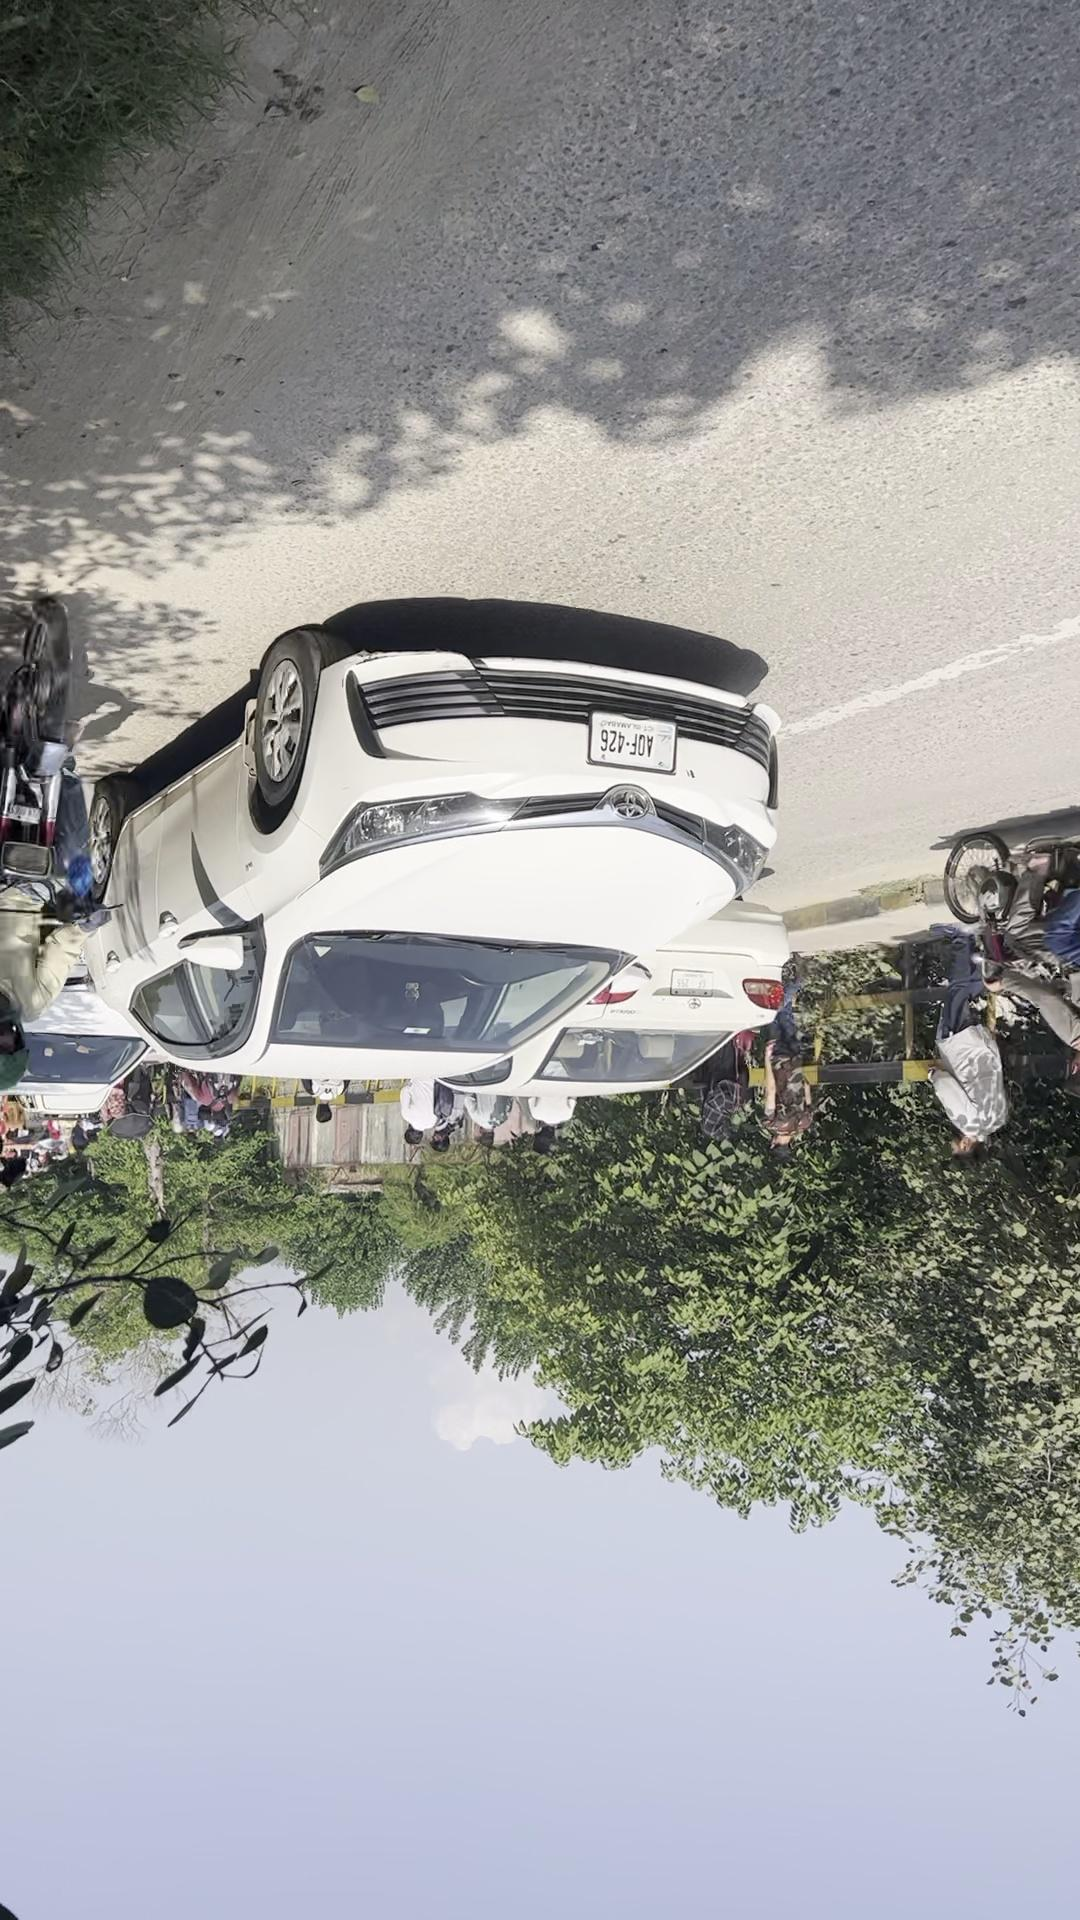windshield: (440, 835, 841, 1005)
